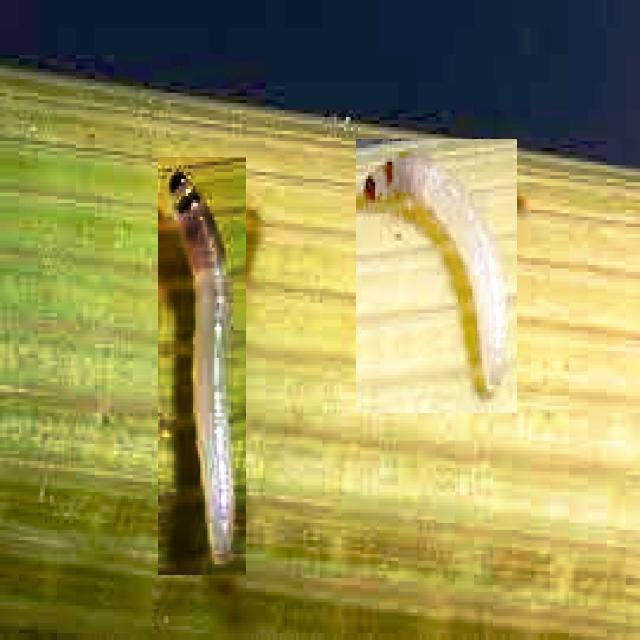whorl-maggot: (356, 139, 517, 413), (158, 157, 246, 575)
